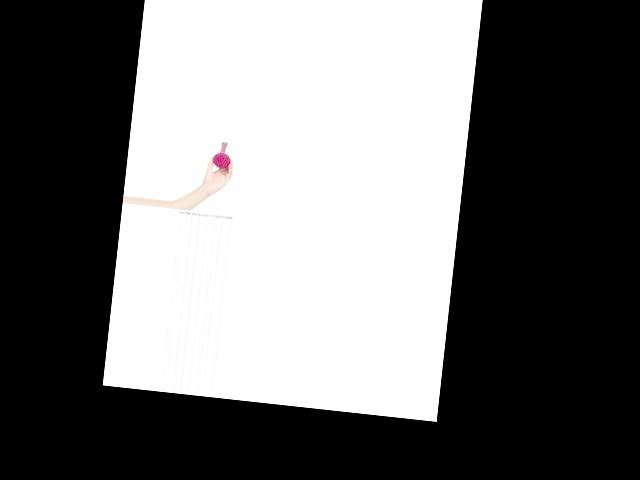beet: (212, 140, 233, 169)
